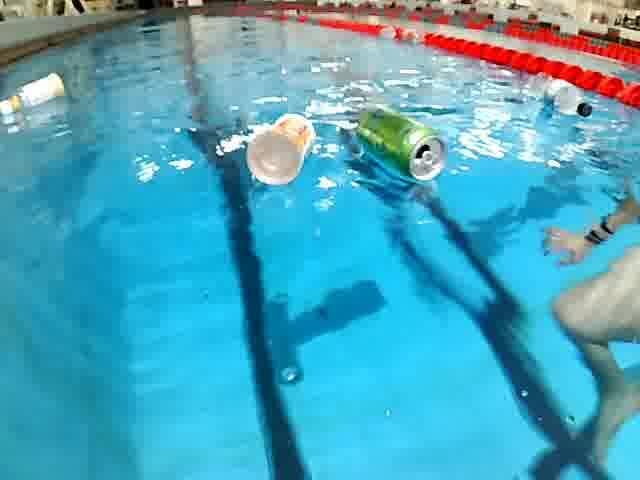Bottle: (237, 111, 321, 190), (515, 70, 598, 122), (0, 70, 71, 119)
Can: (351, 109, 457, 188)
